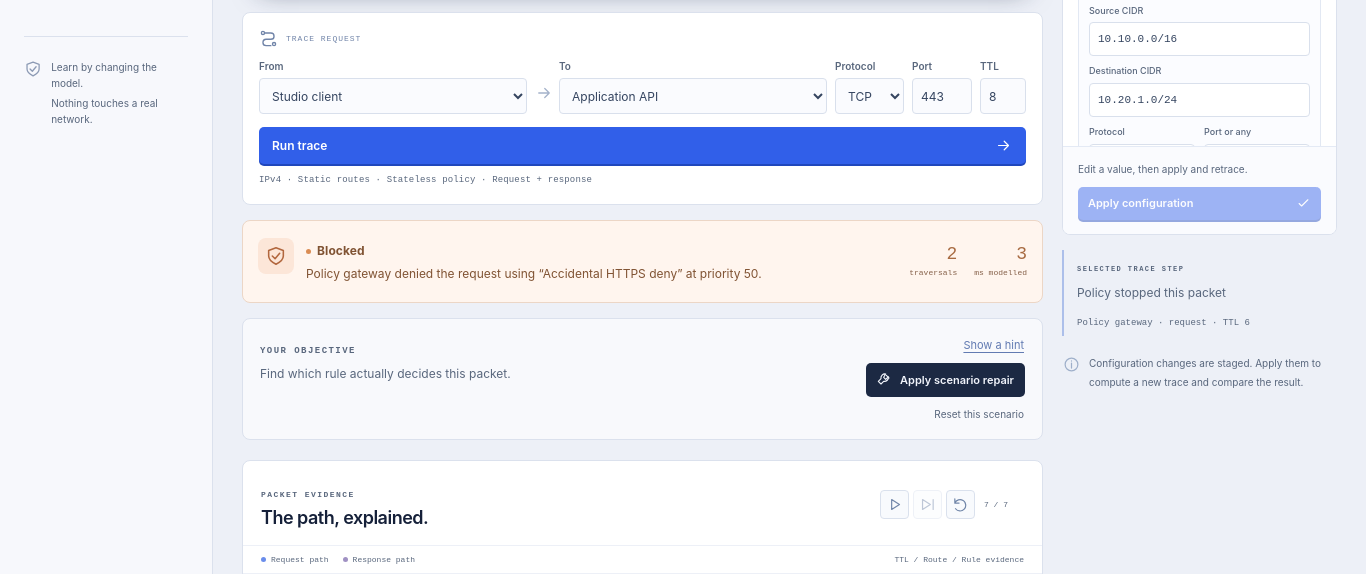
Test: guided investigation using the actual forwarding engine › reset restores the scenario fault after a successful repair
(page scrolled)
Click the button "Apply scenario repair" at (946, 380), box [866,363,1025,397]
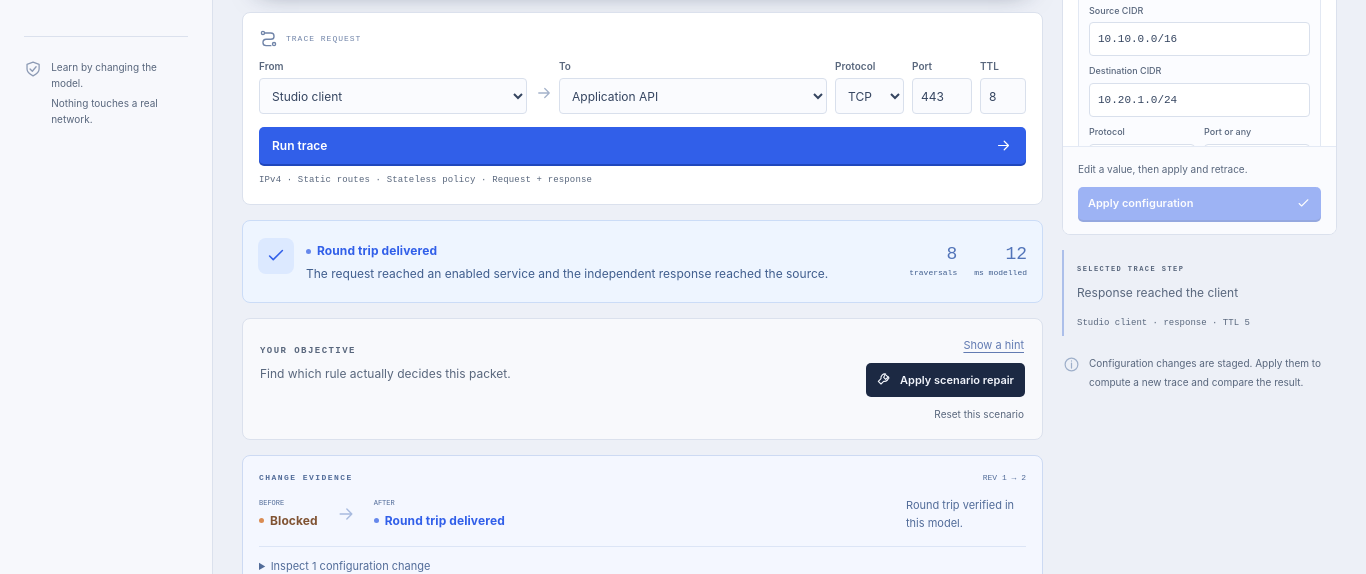
Now the 1st text "Round trip delivered" is shown, box [306,242,437,260]
Click the button "Reset this scenario" at (979, 414), box [933,407,1025,421]
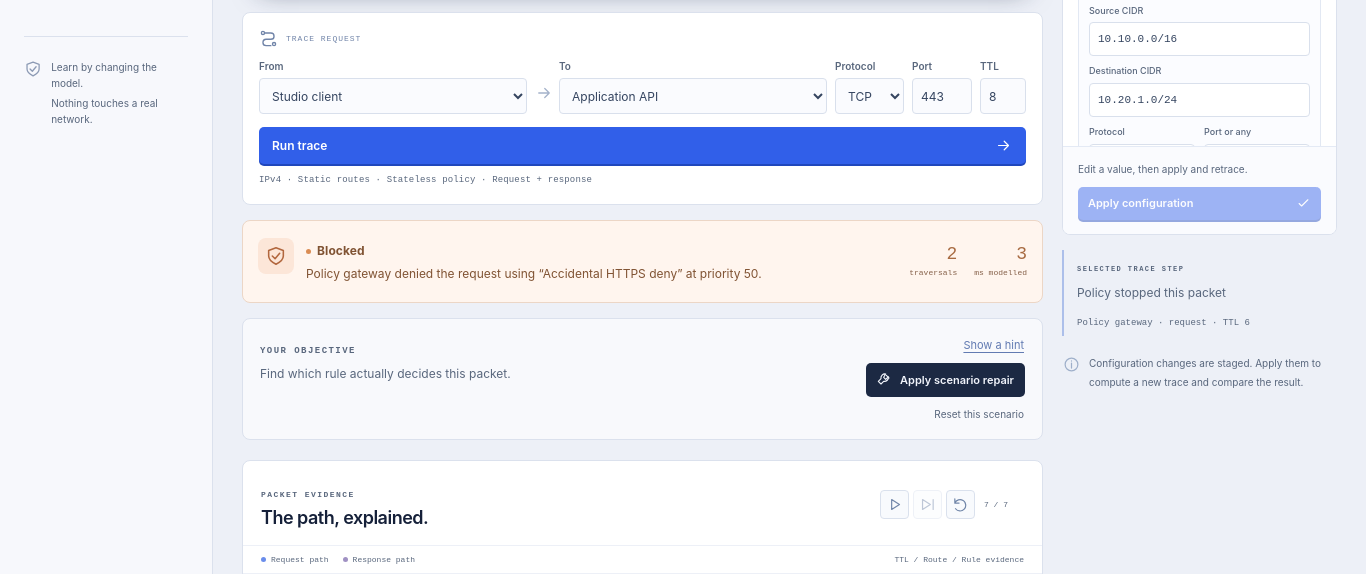
Now the text "Blocked" is shown, box [306,242,365,260]
